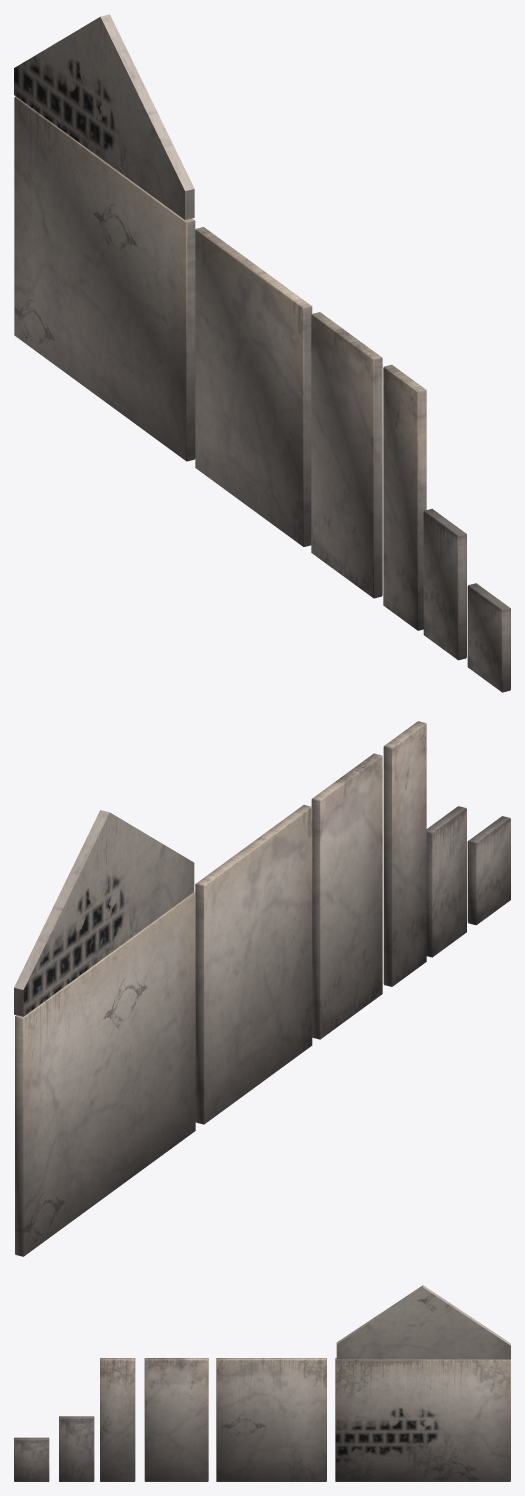
File: Block_wall.fbx
The picture shows the model from 3 angles, top to bottom: view 1: azimuth 30°, elevation 25°; view 2: azimuth 150°, elevation 25°; view 3: azimuth 270°, elevation 25°; orthographic projection. The views are drawn at different scales.
Parts seen in each view (by area): view 1: Wall_20, Wall_15, Wall_10, Wall_20_Triangle, Wall_5, Wall_5_Half, Wall_5_Half.001; view 2: Wall_20, Wall_15, Wall_10, Wall_20_Triangle, Wall_5, Wall_5_Half, Wall_5_Half.001; view 3: Wall_20, Wall_15, Wall_20_Triangle, Wall_10, Wall_5, Wall_5_Half, Wall_5_Half.001.
Part boxes in pixels (<box>): Wall_20: <box>14,96,195,461</box>; Wall_15: <box>195,227,312,546</box>; Wall_10: <box>311,312,382,598</box>; Wall_20_Triangle: <box>14,14,194,219</box>; Wall_5: <box>383,364,426,630</box>; Wall_5_Half: <box>423,508,466,660</box>; Wall_5_Half.001: <box>467,583,510,692</box>; Wall_20: <box>15,892,195,1256</box>; Wall_15: <box>195,805,312,1124</box>; Wall_10: <box>311,753,382,1039</box>; Wall_20_Triangle: <box>14,810,194,1016</box>; Wall_5: <box>383,721,426,986</box>; Wall_5_Half: <box>426,806,466,957</box>; Wall_5_Half.001: <box>467,816,510,925</box>; Wall_20: <box>335,1358,510,1481</box>; Wall_15: <box>216,1358,326,1481</box>; Wall_20_Triangle: <box>336,1285,510,1359</box>; Wall_10: <box>144,1358,208,1481</box>; Wall_5: <box>100,1358,135,1481</box>; Wall_5_Half: <box>59,1416,94,1481</box>; Wall_5_Half.001: <box>14,1437,49,1481</box>.
Size of the model in its own units: 13.94 by 519 by 1201.
